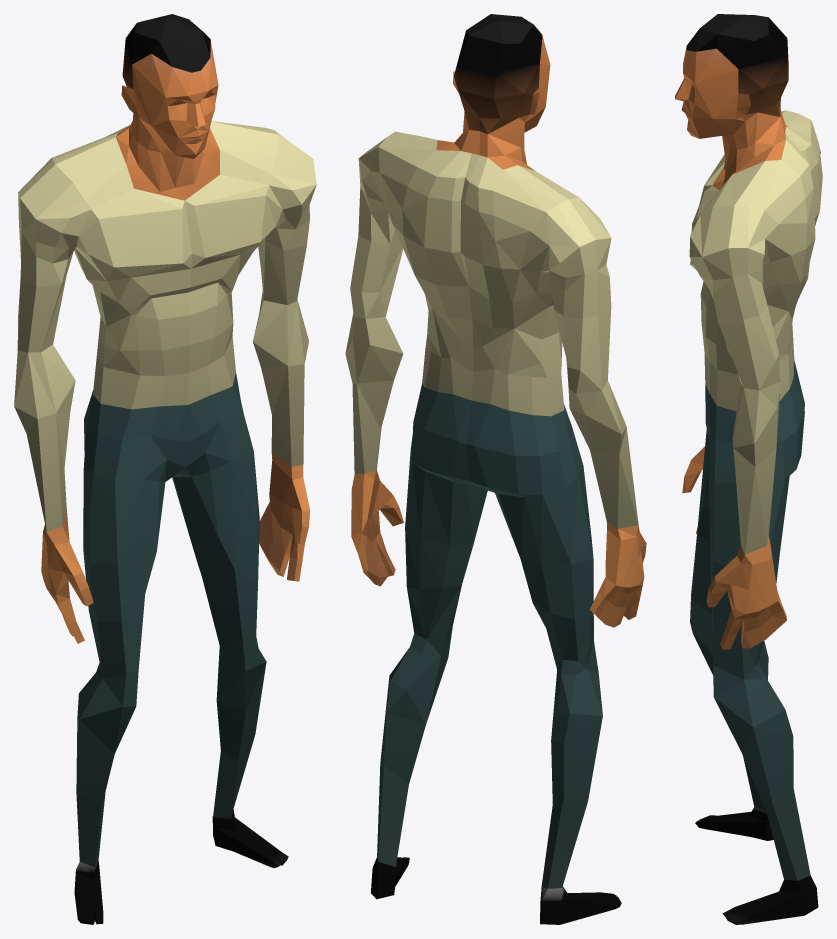
Rendered from PUPET_Stand.obj.
3 views of the same model, side by side, from view 1: azimuth 30°, elevation 25°; view 2: azimuth 150°, elevation 25°; view 3: azimuth 270°, elevation 25° (orthographic). The views are drawn at different scales.
Visible parts, largest first — view 1: Archer; view 2: Archer; view 3: Archer.
Boxes of the visible parts, bbox=[...] form: Archer: bbox=[14, 14, 316, 924]; Archer: bbox=[345, 14, 646, 924]; Archer: bbox=[675, 14, 822, 924].
Size of the model in its own units: 0.6287 by 1.83 by 0.2871.
